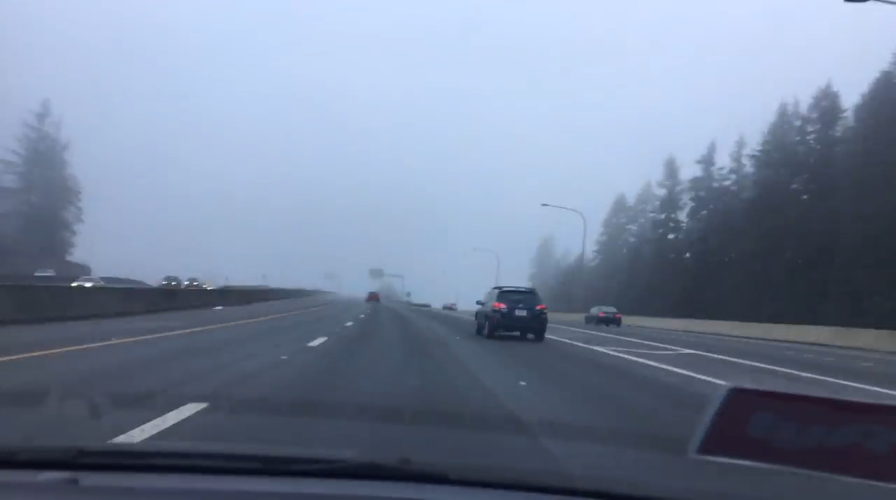car: (472, 282, 549, 344), (581, 304, 624, 329), (69, 273, 106, 292), (157, 273, 183, 293), (182, 275, 200, 292), (366, 290, 382, 305), (441, 301, 458, 310), (196, 280, 207, 292)
